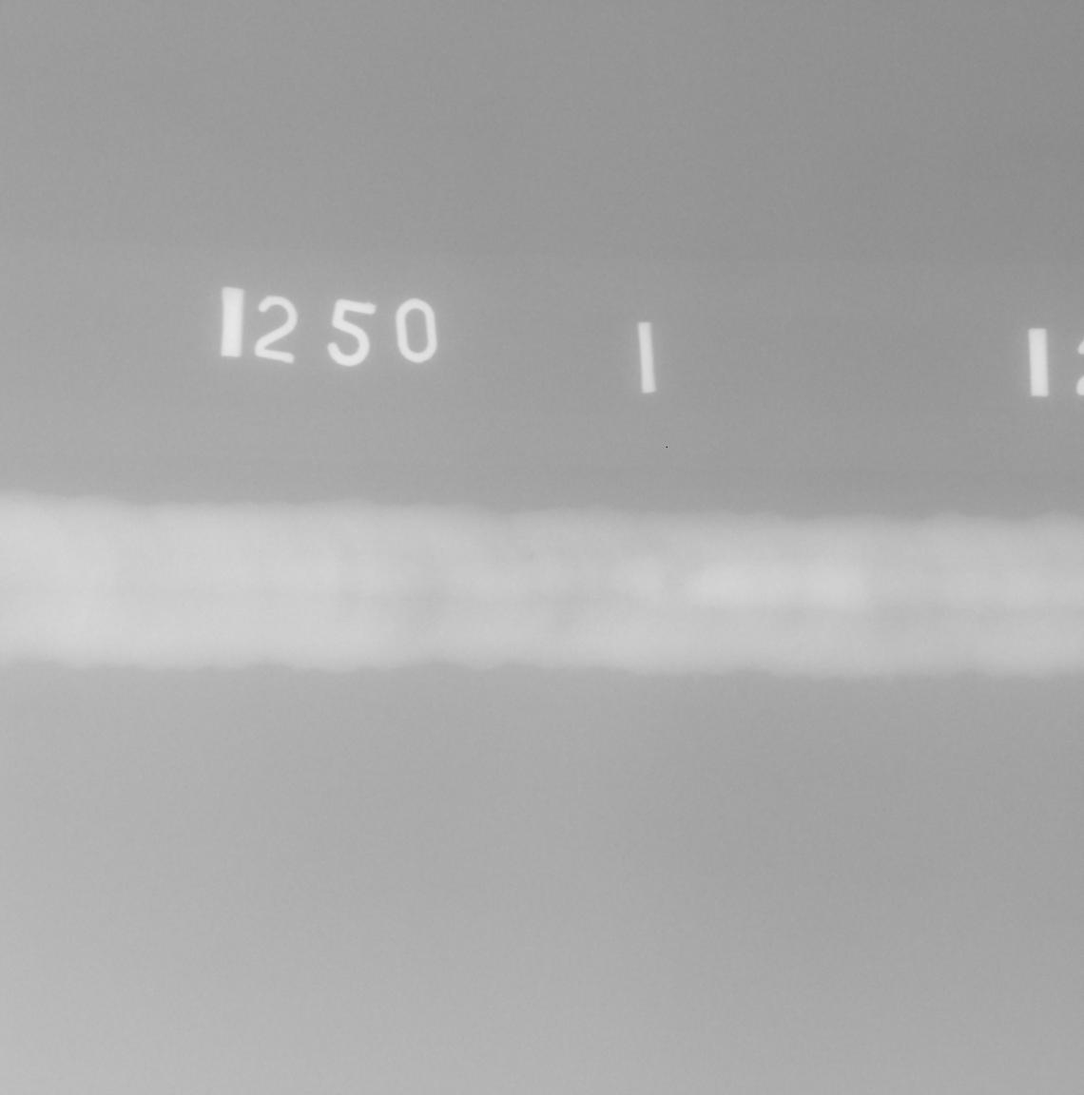Inclusion: (528, 553, 534, 561)
